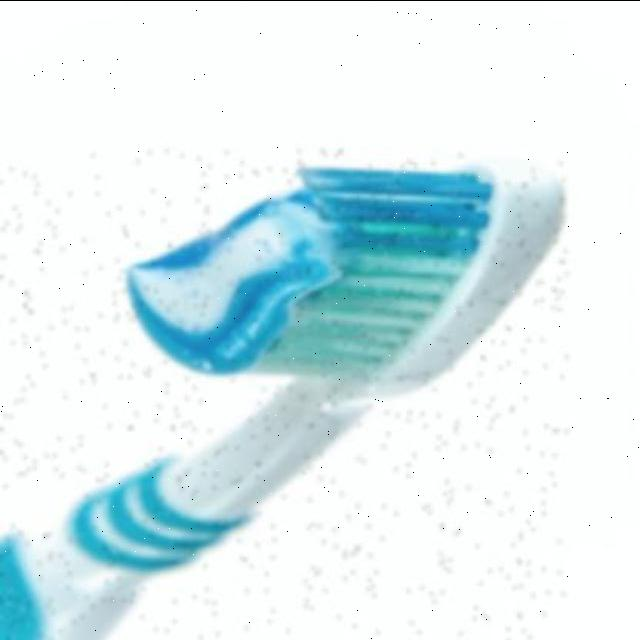toothbrush: (0, 150, 568, 640)
